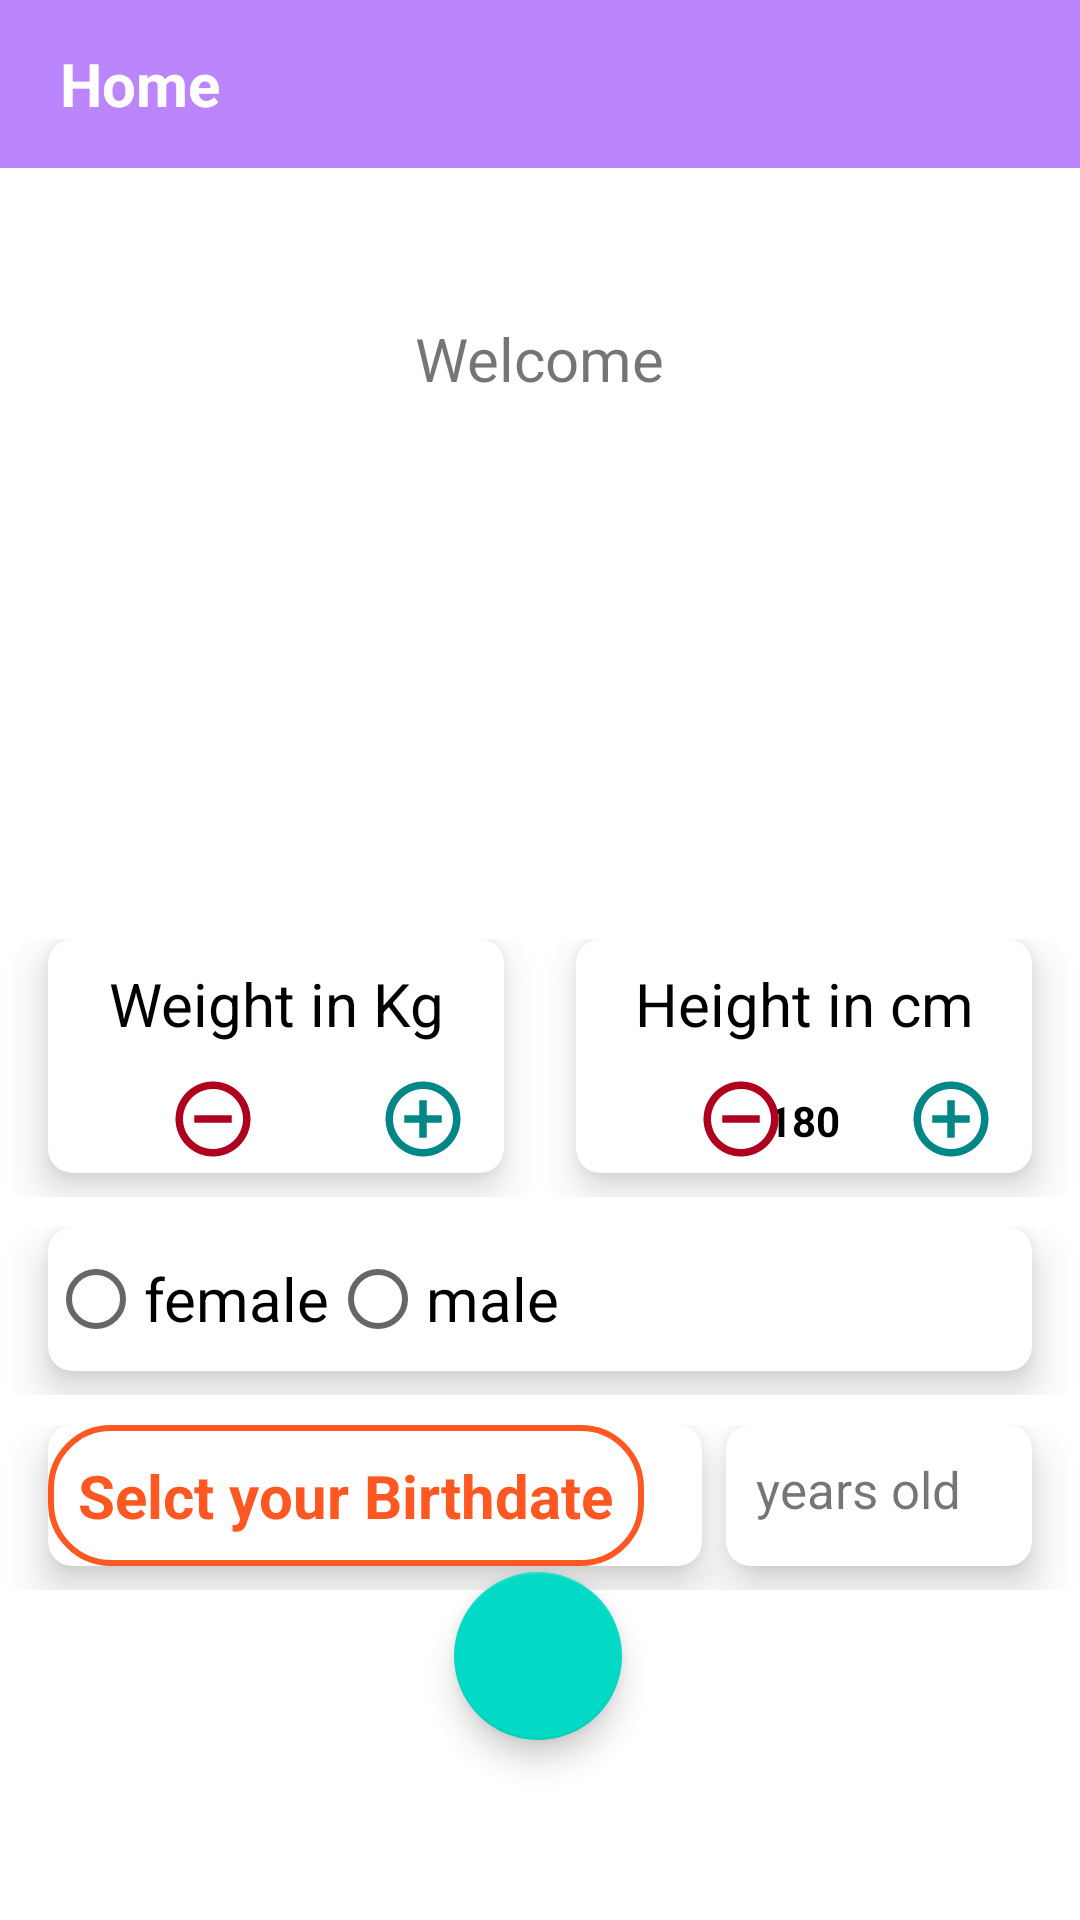

Locate icon controls on the screen. Image size 1080*1920, boxes as (x1, y1, x2, y2).
decrease: (175, 1081, 251, 1157), (703, 1081, 785, 1157)
increase: (385, 1081, 461, 1157), (913, 1081, 989, 1157)
